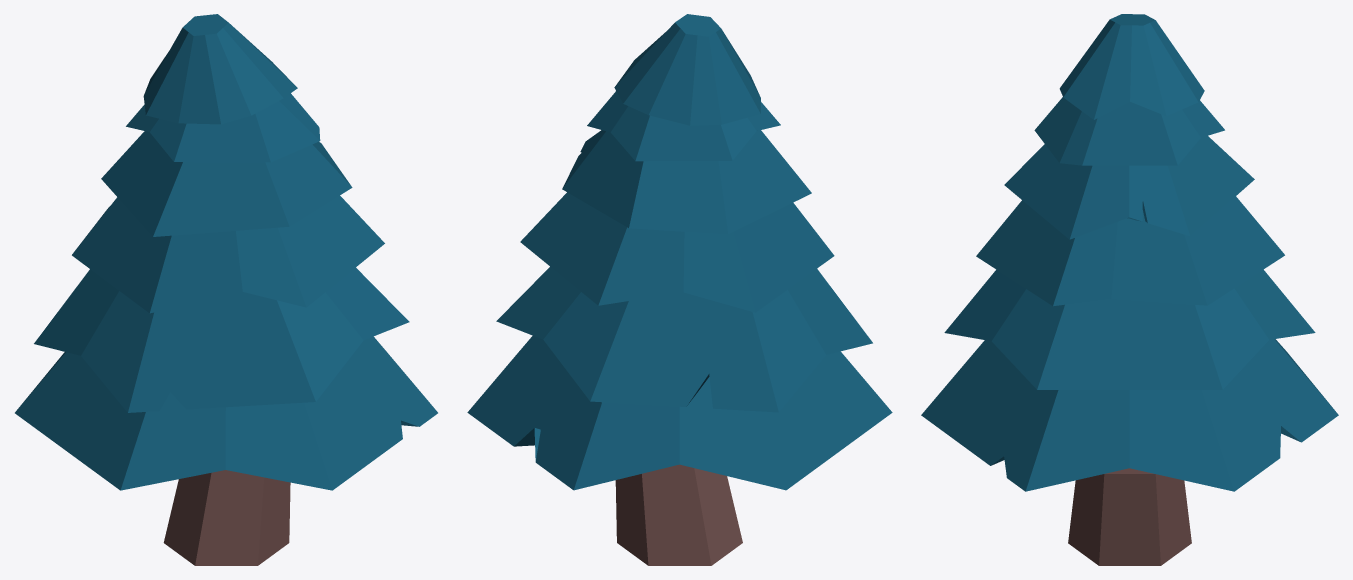
Rendered from tree3.fbx.
The picture shows the model from 3 angles, left to right: view 1: azimuth 30°, elevation 25°; view 2: azimuth 150°, elevation 25°; view 3: azimuth 270°, elevation 25°; orthographic projection.
Visible parts, largest first — view 1: leaves3, trunk3; view 2: leaves3, trunk3; view 3: leaves3, trunk3.
Part boxes in pixels (box(x1,y1,x2,y2)): leaves3: box(15, 14, 437, 490); trunk3: box(163, 470, 290, 565); leaves3: box(467, 14, 892, 490); trunk3: box(615, 464, 742, 565); leaves3: box(921, 14, 1338, 491); trunk3: box(1068, 468, 1191, 565).
Bounding box in the file's own units: 352 × 554 × 406.
